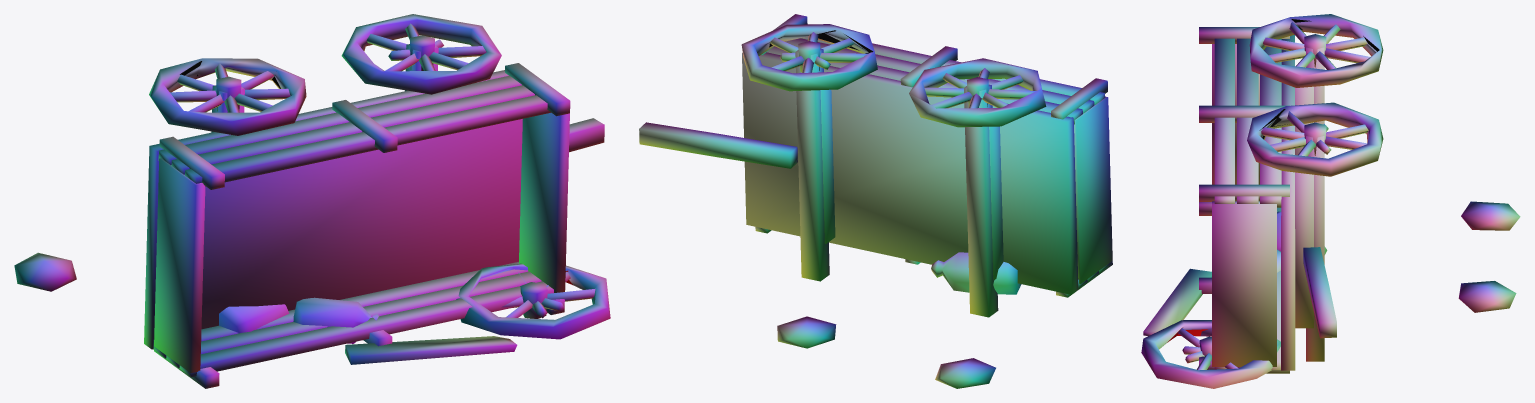
File: SM_Prop_March_SheepfoldWagon_A_LOD1.fbx
3 renders of one model, left to right at view 1: azimuth 30°, elevation 25°; view 2: azimuth 150°, elevation 25°; view 3: azimuth 270°, elevation 25°, orthographic. The views are drawn at different scales.
Visible parts, largest first — view 1: SM_Prop_March_SheepfoldWagon_A_LOD1; view 2: SM_Prop_March_SheepfoldWagon_A_LOD1; view 3: SM_Prop_March_SheepfoldWagon_A_LOD1.
Part boxes in pixels (x1,y1,x2,y2): SM_Prop_March_SheepfoldWagon_A_LOD1: (14, 14, 610, 388); SM_Prop_March_SheepfoldWagon_A_LOD1: (639, 14, 1112, 388); SM_Prop_March_SheepfoldWagon_A_LOD1: (1141, 14, 1520, 388).
Bounding box in the file's own units: 3.04 × 1.59 × 2.31.
